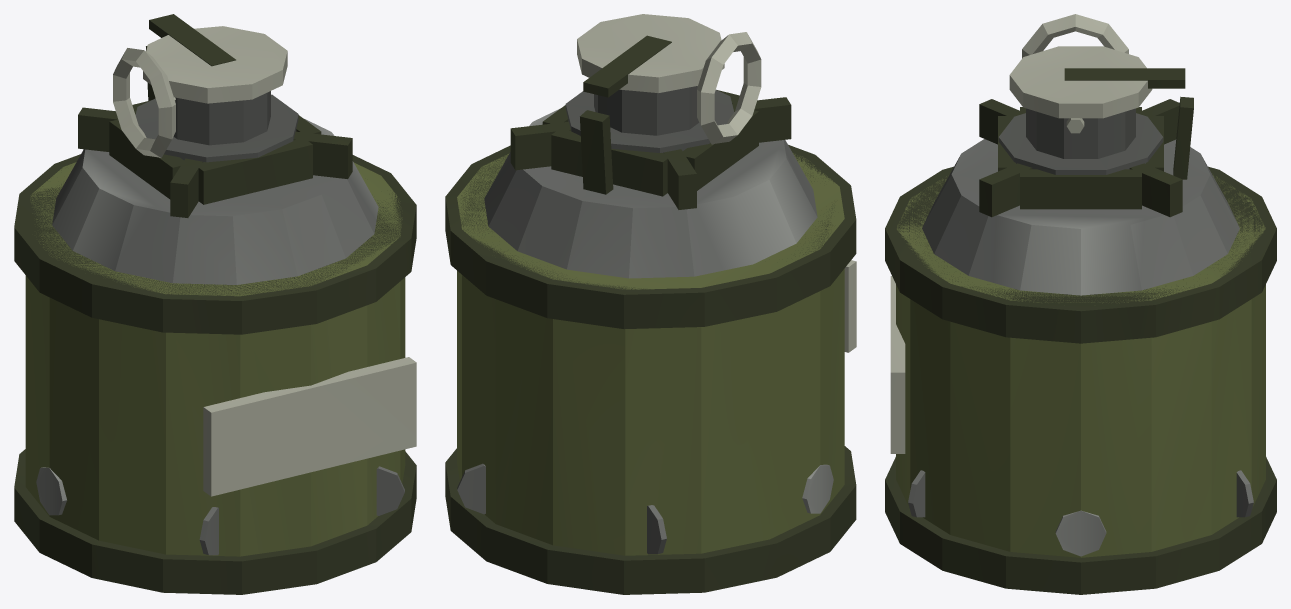
3 views of the same model, side by side, from view 1: azimuth 30°, elevation 25°; view 2: azimuth 150°, elevation 25°; view 3: azimuth 270°, elevation 25° (orthographic). The views are drawn at different scales.
Parts seen in each view (by area): view 1: smoke; view 2: smoke; view 3: smoke.
Part boxes in pixels (box(x1,y1,x2,y2)): smoke: box(14, 14, 416, 594); smoke: box(445, 14, 856, 594); smoke: box(885, 14, 1276, 594).
Size of the model in its own units: 0.0905 by 0.118 by 0.0905.
1 material, 1 textured.
